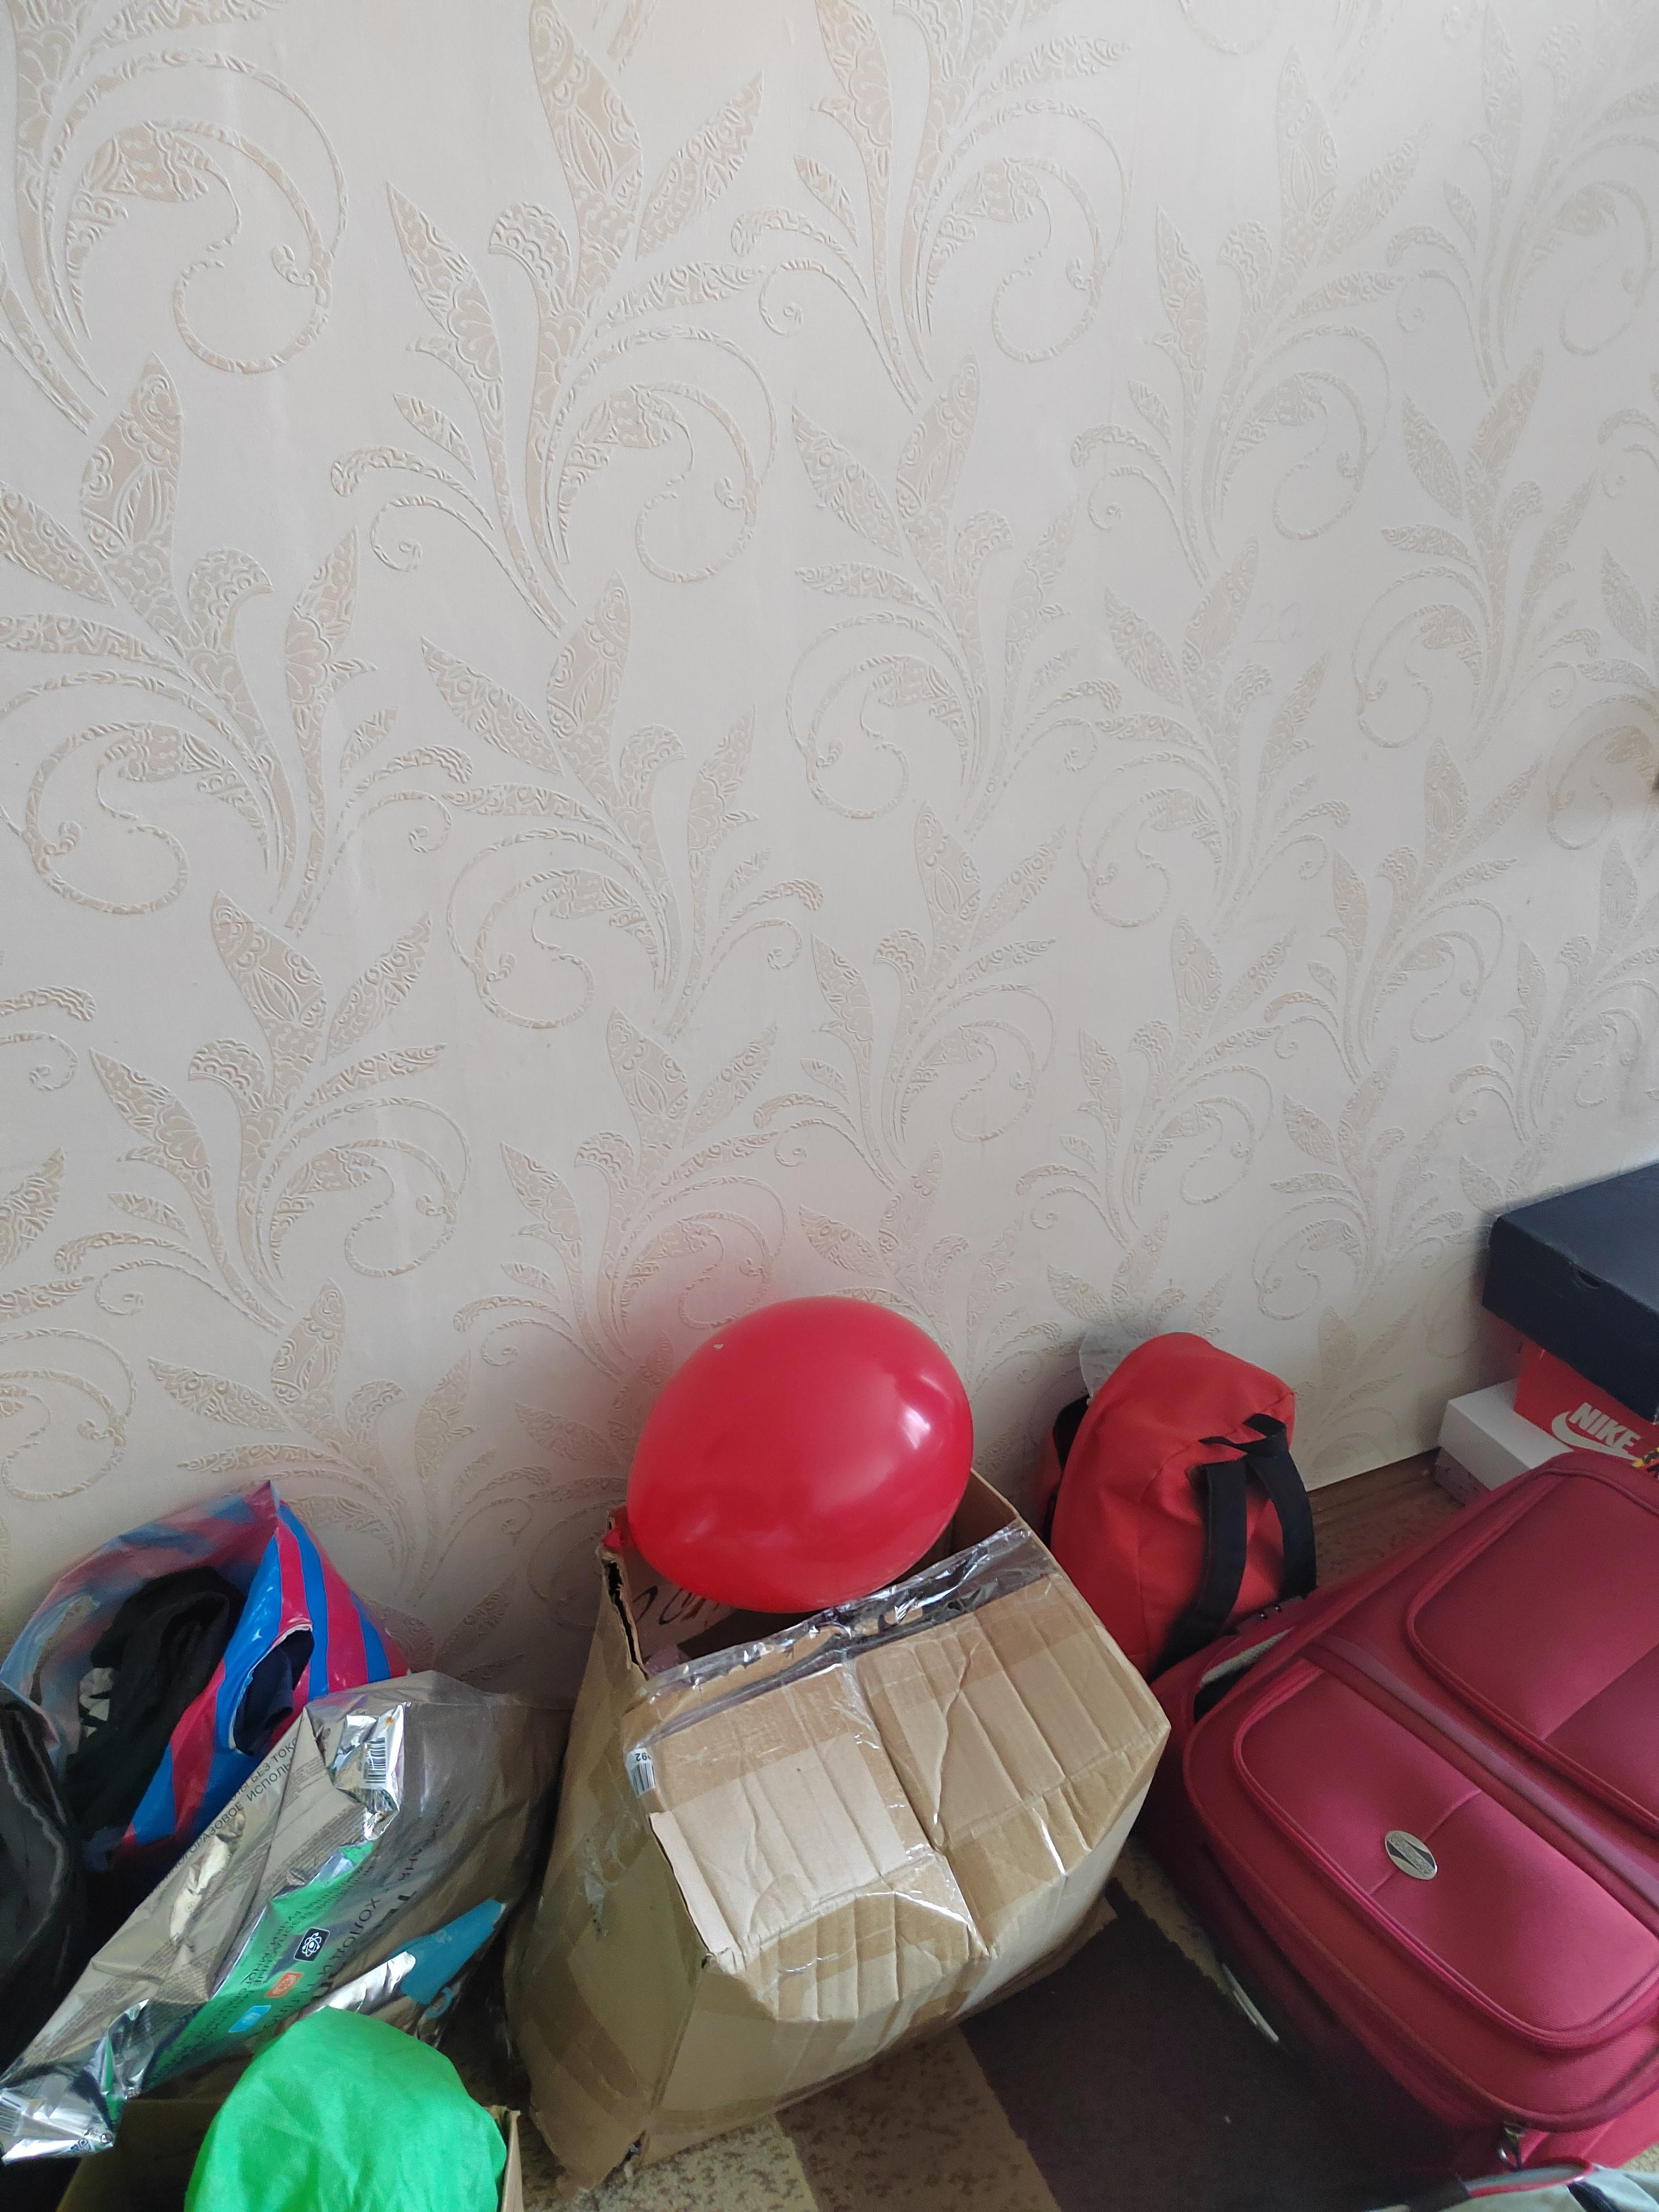red: (591, 1287, 985, 1642)
